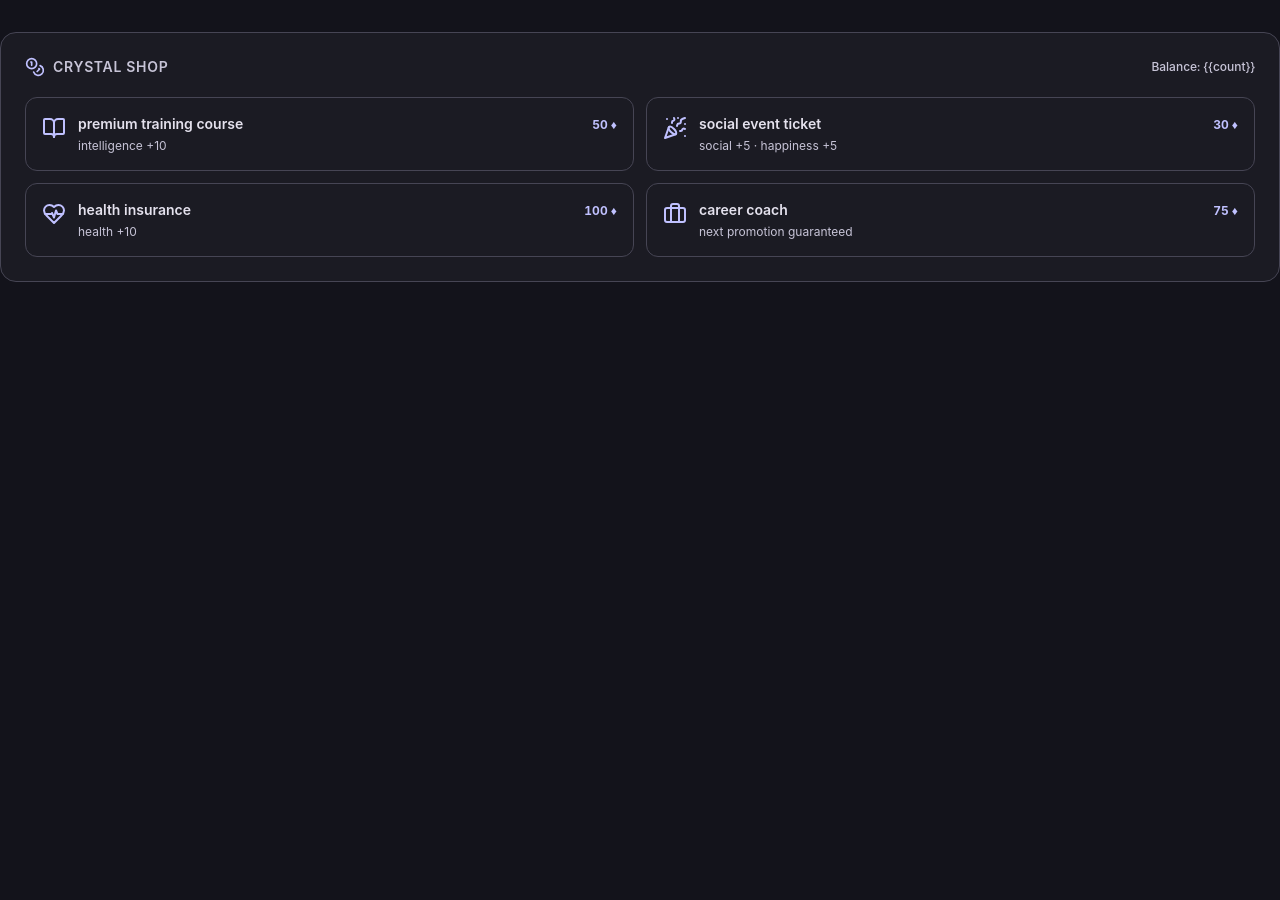
Test: CrystalShop › Close (X) button in dialog header closes the dialog
The width and height of the screenshot is (1280, 900).
Click the button "premium training course 50 ♦ intelligence +10". click: (161, 124)
box: [25,97,634,171]
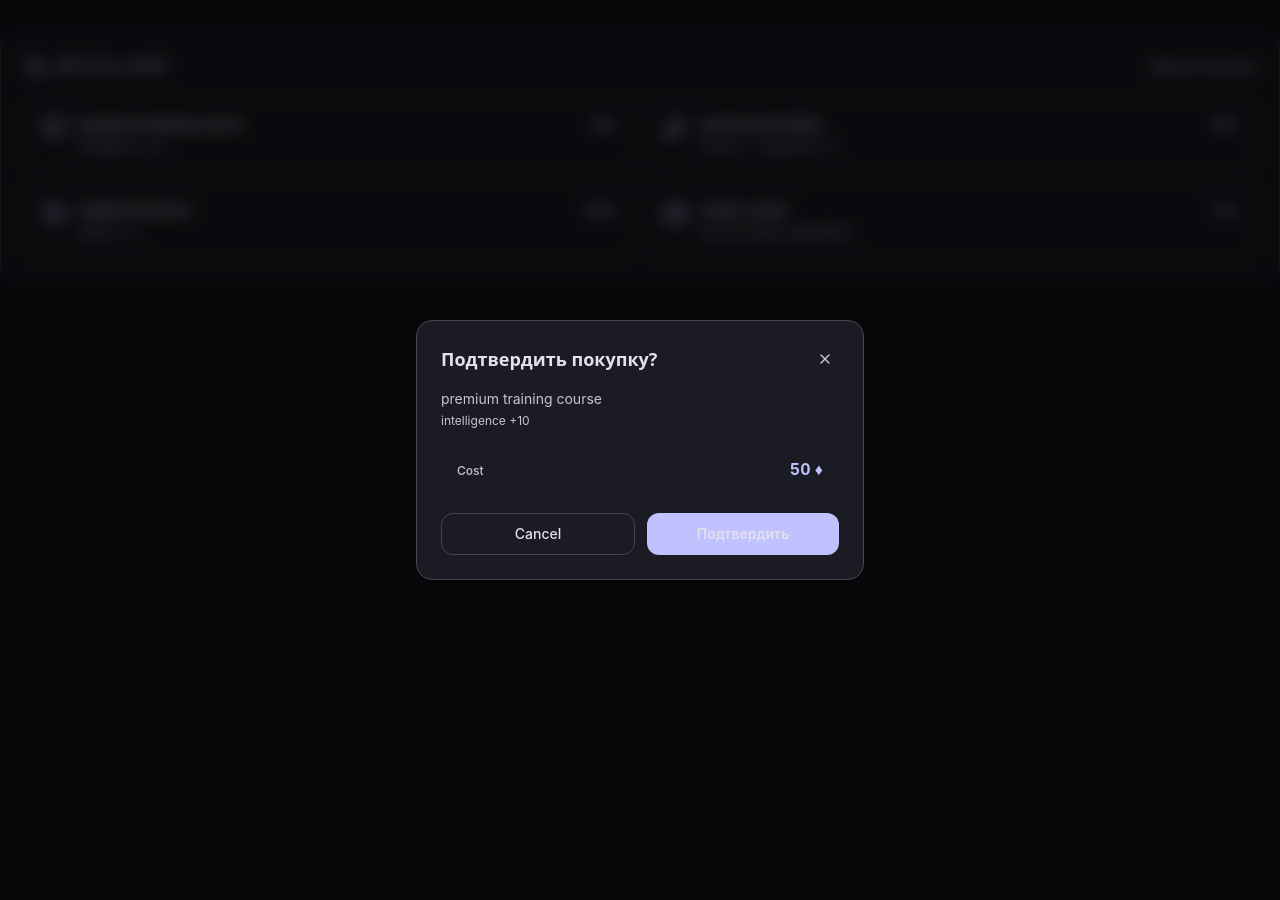
Click the button named "Close". click: (825, 359)
box: [811,345,839,373]
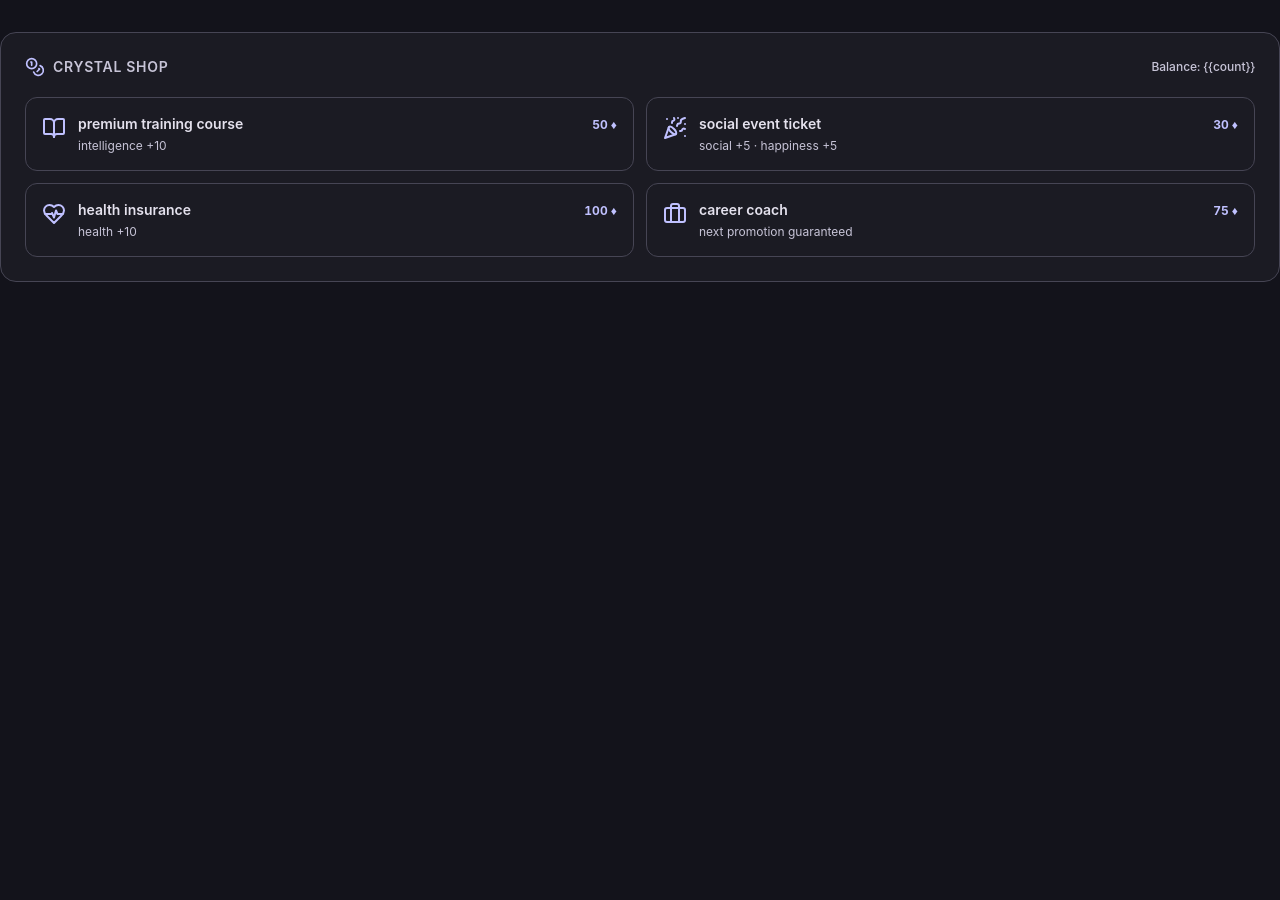
Now the dialog is gone
